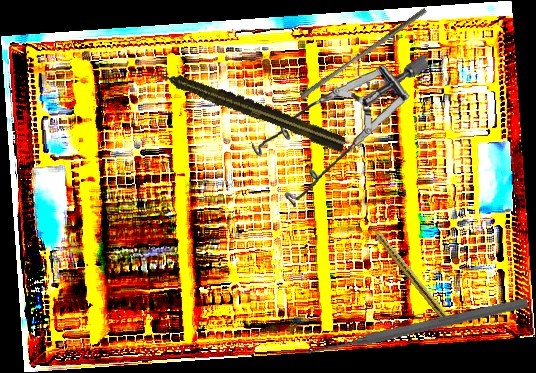Handpiece: (149, 62, 348, 155), (365, 219, 452, 323)
Pusher: (305, 294, 529, 361), (299, 2, 428, 104)
Speculum: (246, 54, 438, 212)
